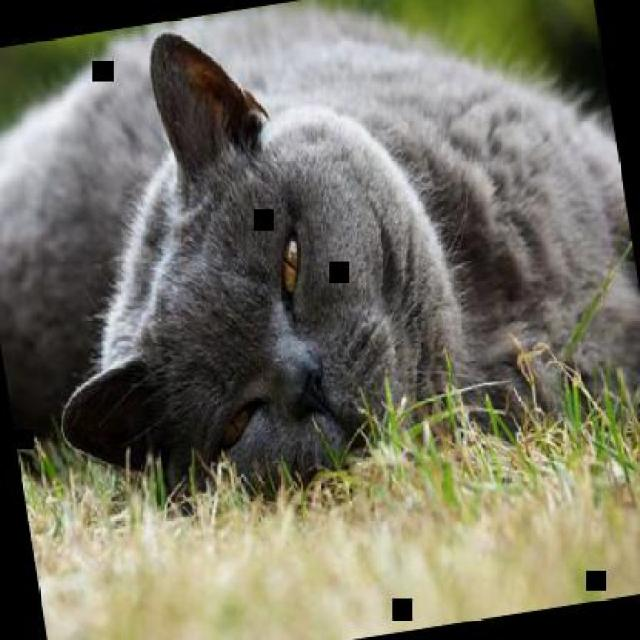cat: (0, 0, 638, 557)
